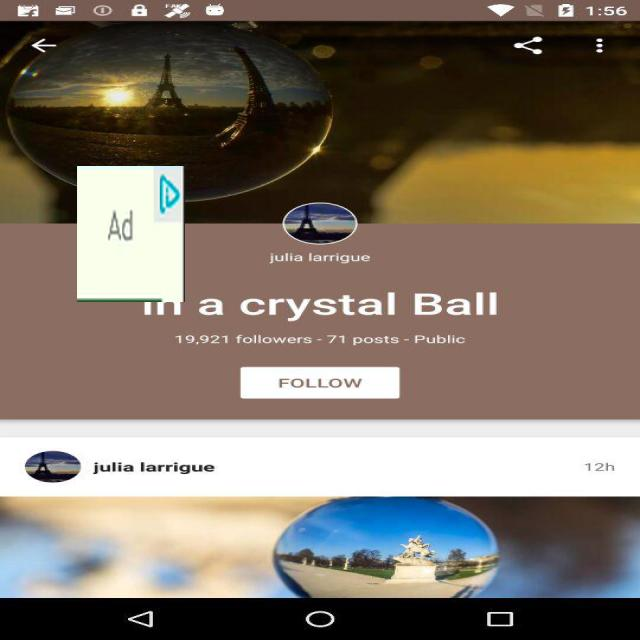sneaking: (77, 166, 185, 302)
